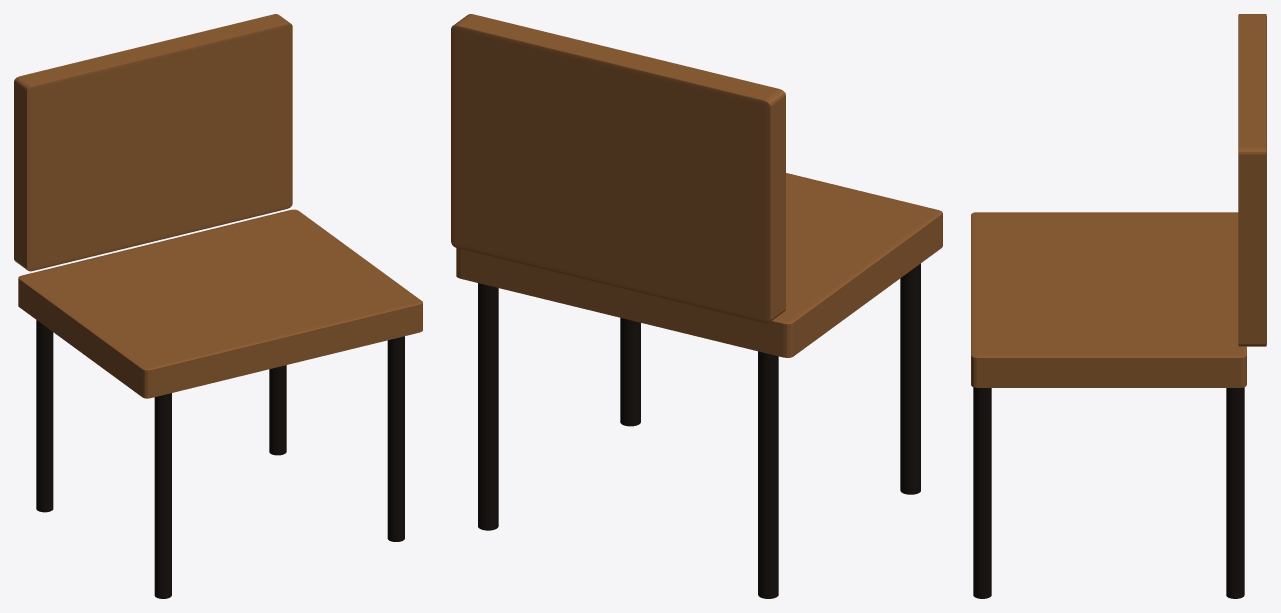
The model's file is chair_office.glb.
The picture shows the model from 3 angles, left to right: view 1: azimuth 30°, elevation 25°; view 2: azimuth 150°, elevation 25°; view 3: azimuth 270°, elevation 25°; orthographic projection. The views are drawn at different scales.
Visible parts, largest first — view 1: Cube.001, Cube, Cylinder, Cylinder.002, Cylinder.001, Cylinder.003; view 2: Cube.001, Cube, Cylinder.001, Cylinder.003, Cylinder, Cylinder.002; view 3: Cube, Cube.001, Cylinder.003, Cylinder.002.
Part boxes in pixels (x1,y1,x2,y2): Cube.001: [14, 14, 292, 271]; Cube: [18, 209, 422, 398]; Cylinder: [154, 393, 171, 598]; Cylinder.002: [387, 336, 404, 541]; Cylinder.001: [36, 320, 53, 512]; Cylinder.003: [269, 365, 286, 455]; Cube.001: [451, 14, 785, 323]; Cube: [456, 173, 942, 357]; Cylinder.001: [758, 351, 778, 598]; Cylinder.003: [478, 283, 498, 530]; Cylinder: [900, 263, 920, 494]; Cylinder.002: [620, 318, 640, 426]; Cube: [971, 212, 1246, 387]; Cube.001: [1238, 14, 1266, 346]; Cylinder.003: [1226, 387, 1244, 598]; Cylinder.002: [973, 387, 991, 598].
Bounding box in the file's own units: 0.6 × 0.87 × 0.515.
